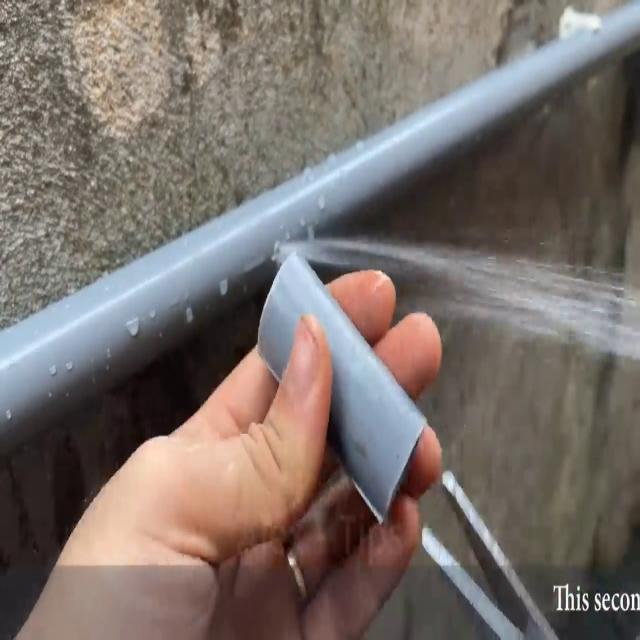leak: (267, 235, 640, 367)
